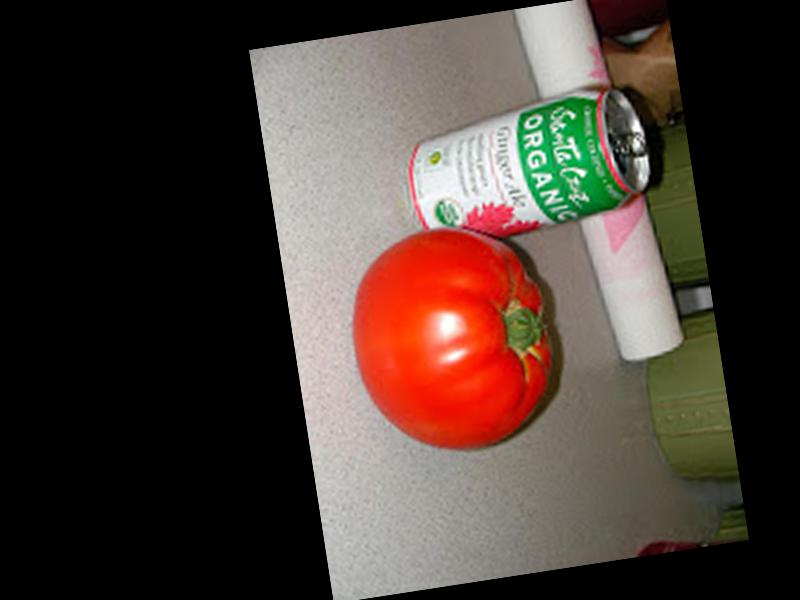Tomato: (340, 217, 562, 461)
